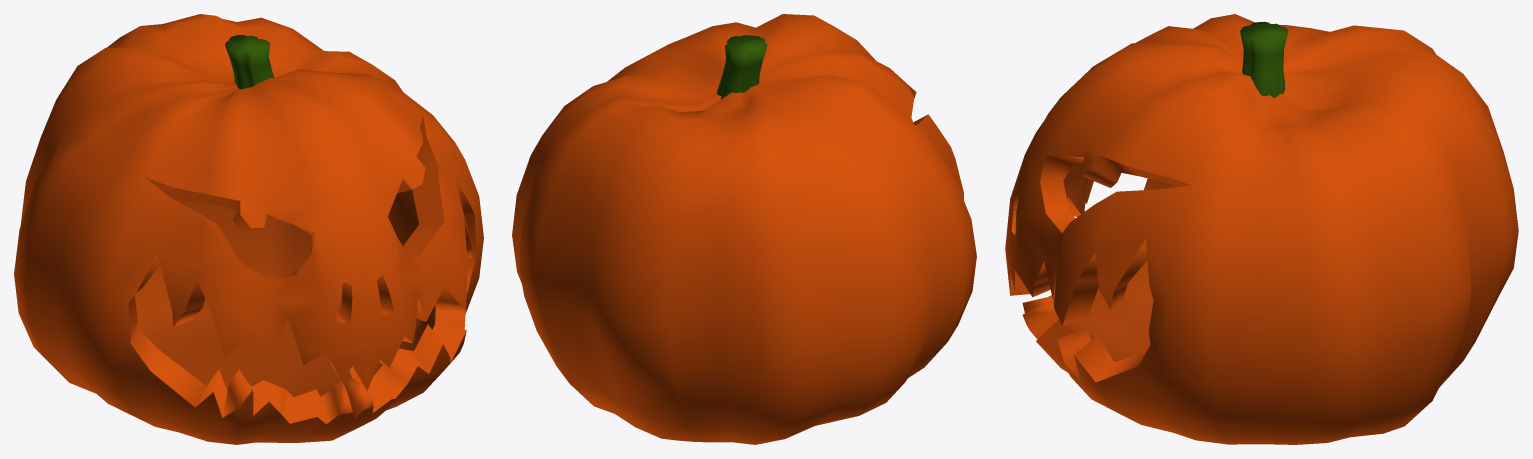
Rendered from Jack-o’-lantern_1_Tall.fbx.
The picture shows the model from 3 angles, left to right: view 1: azimuth 30°, elevation 25°; view 2: azimuth 150°, elevation 25°; view 3: azimuth 270°, elevation 25°; orthographic projection. The views are drawn at different scales.
Visible parts, largest first — view 1: Jack-o’-lantern 1 Tall; view 2: Jack-o’-lantern 1 Tall; view 3: Jack-o’-lantern 1 Tall.
Part boxes in pixels (x1,y1,x2,y2): Jack-o’-lantern 1 Tall: [14, 14, 483, 444]; Jack-o’-lantern 1 Tall: [512, 14, 976, 444]; Jack-o’-lantern 1 Tall: [1005, 14, 1518, 444].
Bounding box in the file's own units: 147 × 125 × 158.
